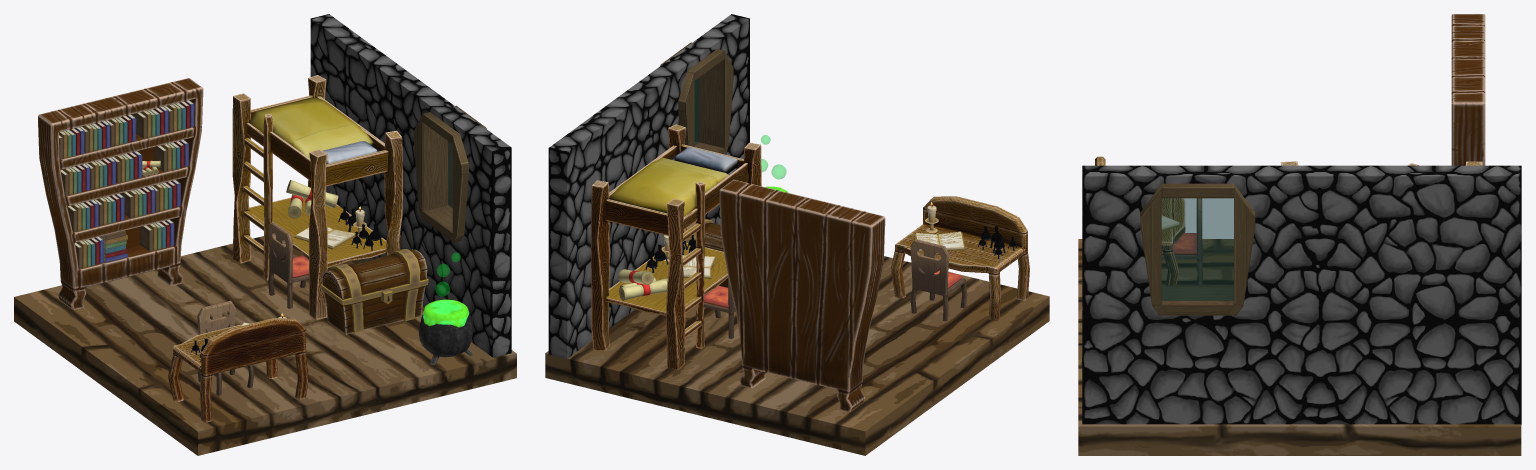
3 views of the same model, side by side, from view 1: azimuth 30°, elevation 25°; view 2: azimuth 150°, elevation 25°; view 3: azimuth 270°, elevation 25° (orthographic). The views are drawn at different scales.
Parts seen in each view (by area): view 1: pCube13, polySurface36, Bed2_Pillow, Shelf4, Chest4, Desk3, Cauldroimn1, Chair8, Chair9, Book_Cluster46, Book_Cluster33, Book_Cluster37 (+15 smaller); view 2: pCube13, polySurface36, Shelf4, Bed2_Pillow, Desk3, Chair9, Chair8, Book_Open6, Scroll11, Chest4; view 3: polySurface36, pCube13, Shelf4, Desk3, Chair9.
Boxes of the visible parts, <box> form: pCube13: <box>14,236,516,455</box>; polySurface36: <box>310,14,511,357</box>; Bed2_Pillow: <box>232,75,402,320</box>; Shelf4: <box>38,78,203,309</box>; Chest4: <box>320,249,428,334</box>; Desk3: <box>168,318,308,422</box>; Cauldroimn1: <box>419,299,473,364</box>; Chair8: <box>268,221,309,308</box>; Chair9: <box>197,300,254,395</box>; Book_Cluster46: <box>139,219,174,251</box>; Book_Cluster33: <box>134,106,168,138</box>; Book_Cluster37: <box>154,140,188,171</box>; pCube13: <box>545,256,1049,455</box>; polySurface36: <box>548,14,749,358</box>; Shelf4: <box>719,179,885,412</box>; Bed2_Pillow: <box>591,124,761,369</box>; Desk3: <box>891,196,1029,321</box>; Chair9: <box>910,239,967,321</box>; Chair8: <box>695,276,735,338</box>; Book_Open6: <box>914,231,965,251</box>; Scroll11: <box>619,278,667,300</box>; Chest4: <box>686,218,727,287</box>; polySurface36: <box>1082,165,1521,424</box>; pCube13: <box>1078,239,1521,455</box>; Shelf4: <box>1451,14,1485,165</box>; Desk3: <box>1095,156,1185,285</box>; Chair9: <box>1161,198,1203,285</box>.
Size of the model in its own units: 328 by 224 by 324.
Materials: 19 (14 with a texture image).
